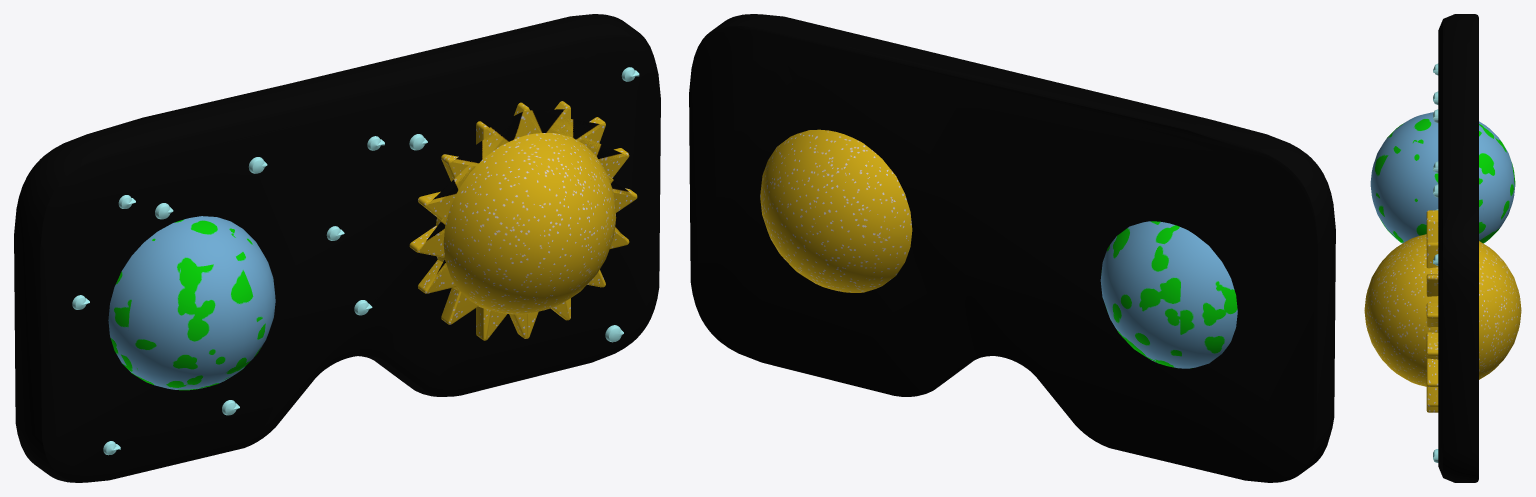
File: ProjectVasundahraModel.fbx
The picture shows the model from 3 angles, left to right: view 1: azimuth 30°, elevation 25°; view 2: azimuth 150°, elevation 25°; view 3: azimuth 270°, elevation 25°; orthographic projection. The views are drawn at different scales.
Visible parts, largest first — view 1: Border, Sun, Sphere, Dots, Dots.001; view 2: Border, Sun, Sphere; view 3: Border, Sun, Sphere, Dots.
Part boxes in pixels (x1,y1,x2,y2): Border: (14, 14, 660, 482); Sun: (409, 101, 637, 340); Sphere: (108, 216, 275, 390); Dots: (103, 67, 639, 455); Dots.001: (72, 136, 384, 415); Border: (689, 14, 1335, 482); Sun: (760, 129, 912, 292); Sphere: (1100, 221, 1237, 368); Border: (1438, 14, 1478, 482); Sun: (1364, 210, 1521, 412); Sphere: (1370, 112, 1515, 243); Dots: (1433, 63, 1438, 462).
Bounding box in the file's own units: 108 × 55.53 × 29.47.
